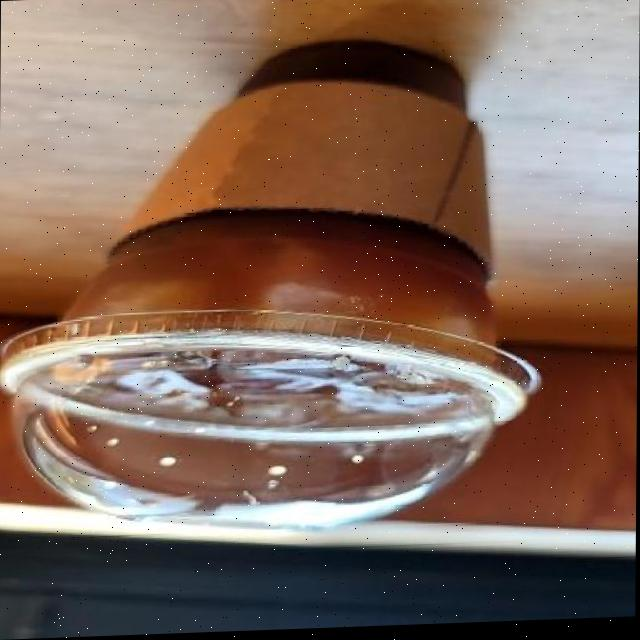cup: (0, 17, 577, 580)
